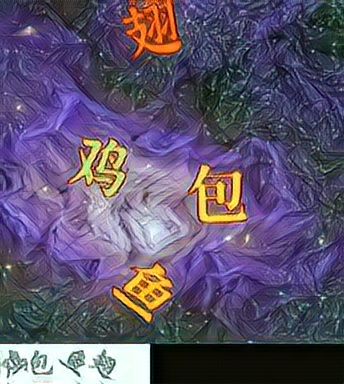B0FC: (187, 159, 250, 226)
B3E1: (123, 1, 186, 68)
BCA6: (68, 132, 131, 199)
D3E3: (112, 254, 175, 321)
